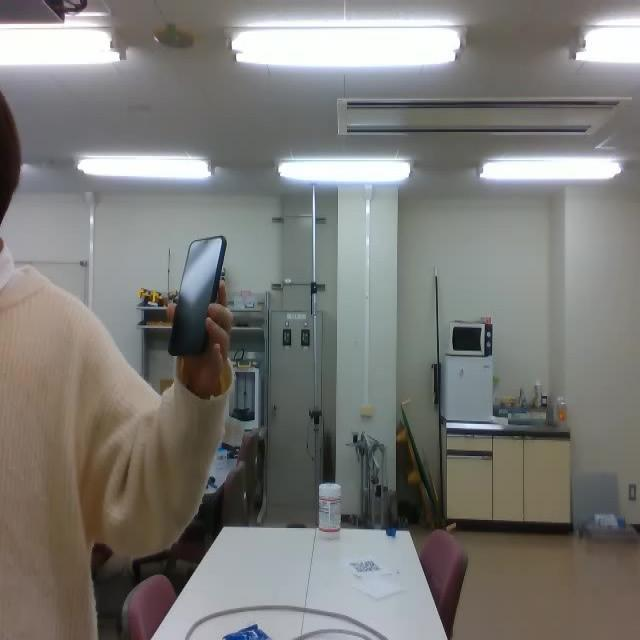Phone: (168, 232, 228, 360)
